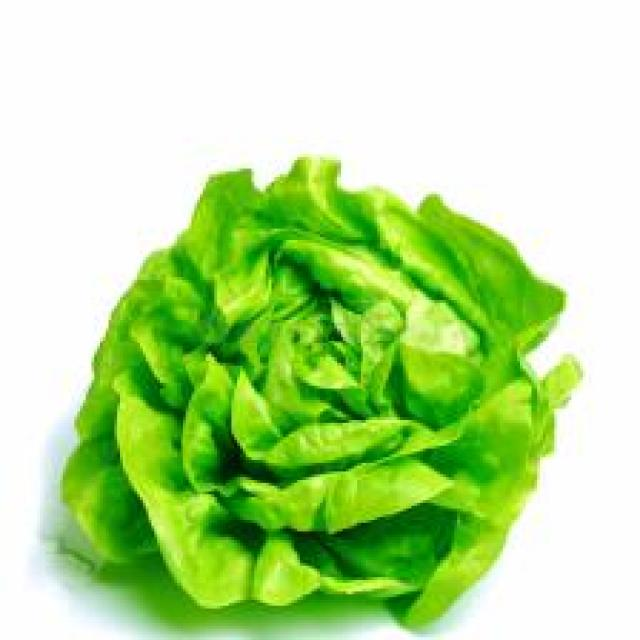Lettuce: (59, 148, 582, 629)
